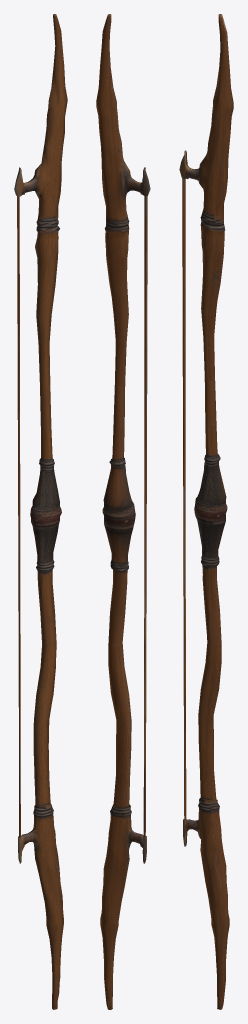
The model's file is long_bow.glb.
3 renders of one model, left to right at view 1: azimuth 30°, elevation 25°; view 2: azimuth 150°, elevation 25°; view 3: azimuth 330°, elevation 25°, orthographic.
Bounding box in the file's own units: 0.0522 × 0.9507 × 0.0239.
Materials: 1 (1 with a texture image).
